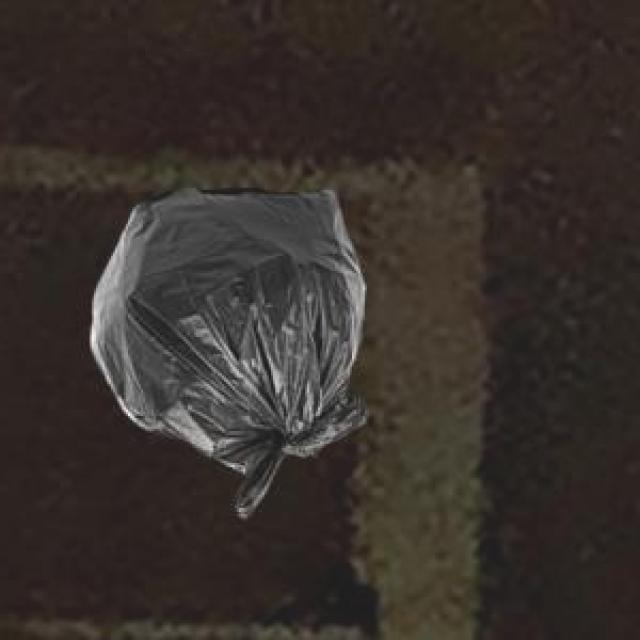Trashbag: (80, 172, 386, 524)
